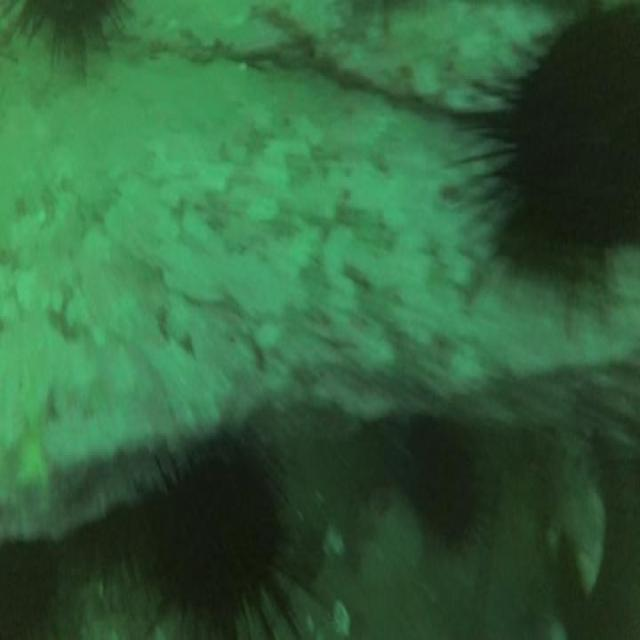echinus: (506, 0, 640, 262), (151, 454, 287, 630), (402, 422, 481, 548), (1, 539, 61, 640)
scallop: (550, 476, 609, 597)
